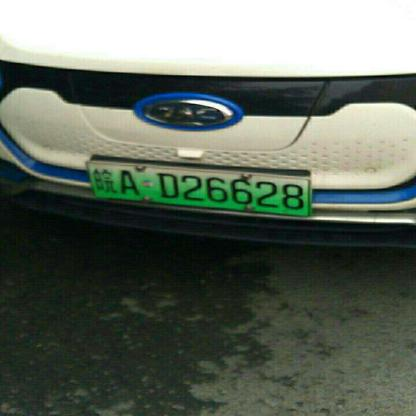lp: (83, 162, 308, 214)
